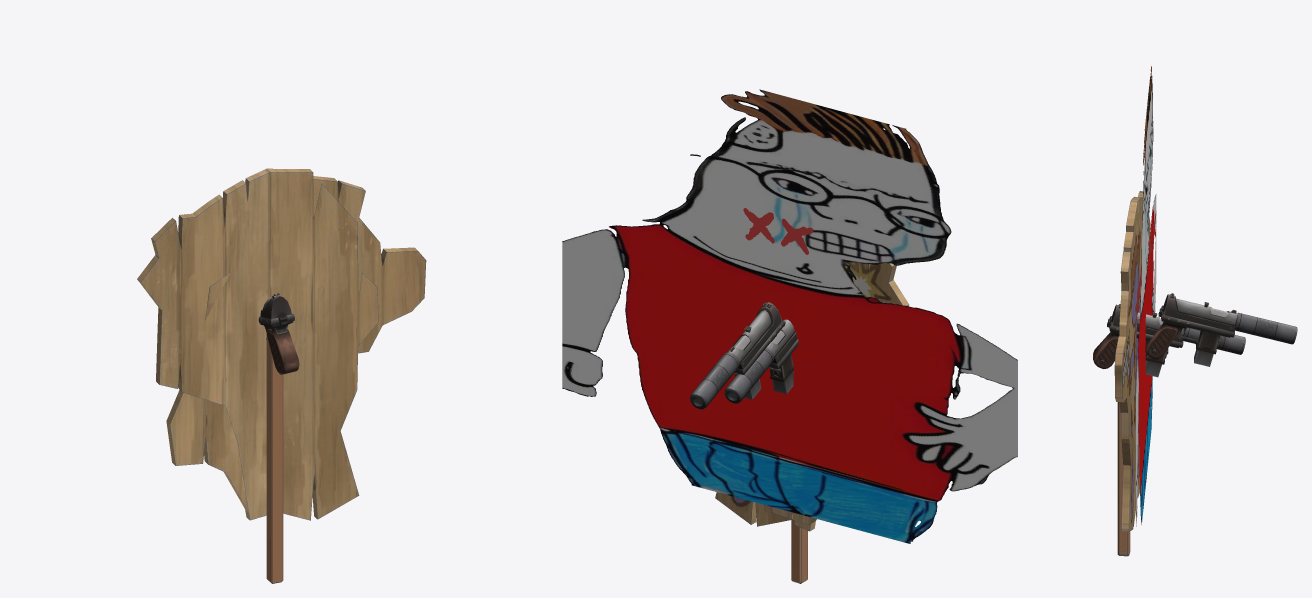
File: Target (1).glb
3 renders of one model, left to right at view 1: azimuth 30°, elevation 25°; view 2: azimuth 150°, elevation 25°; view 3: azimuth 270°, elevation 25°, orthographic. The views are drawn at different scales.
Visible parts, largest first — view 1: BanditDynamite, BanditRevolver, old_stylized_agent_pistol_handpainted; view 2: Cube, old_stylized_agent_pistol_handpainted (×2), BanditDynamite, Dead, BanditRevolver; view 3: old_stylized_agent_pistol_handpainted (×2), BanditRevolver, Cube, BanditDynamite.
Boxes of the visible parts, x1,y1,x2,y2 form: BanditDynamite: (137,168,378,583); BanditRevolver: (166,176,426,583); old_stylized_agent_pistol_handpainted: (258,293,299,374); Cube: (562,89,1017,543); old_stylized_agent_pistol_handpainted (×2): (690,302,798,409); BanditDynamite: (715,262,909,583); Dead: (743,208,813,254); BanditRevolver: (770,506,816,583); old_stylized_agent_pistol_handpainted (×2): (1093,293,1297,377); BanditRevolver: (1114,212,1142,556); Cube: (1136,66,1156,526); BanditDynamite: (1121,191,1150,553).
Bounding box in the file's own units: 2.64 × 2.65 × 1.19.
5 materials, 5 textured.
